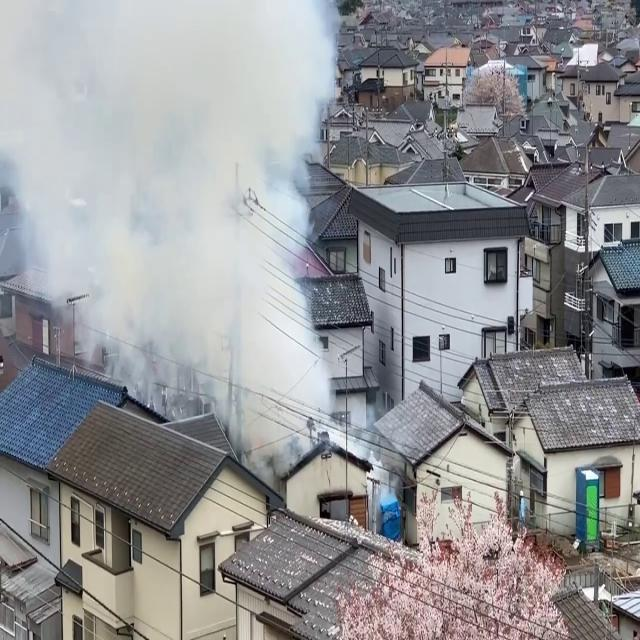Smoke: (64, 0, 346, 462)
